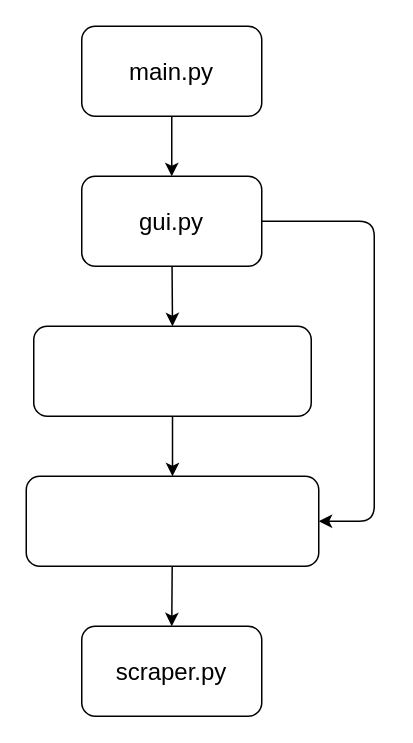
The diagram is 413 pixels wide and 743 high, and some of its shapes have lost their labels. The shapes that lost their labels are listed below. From the top down, each one's box as (x1, y1, x2, y2) in pixels, then its label:
(32, 325, 311, 416): show_graphs.py
(25, 475, 319, 566): work_with_data.py
